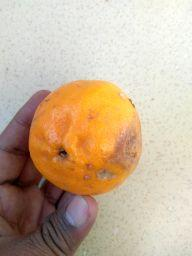Unripe: (28, 80, 141, 192)
